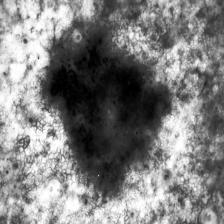Benign Marking or Mole: (49, 35, 169, 186)
